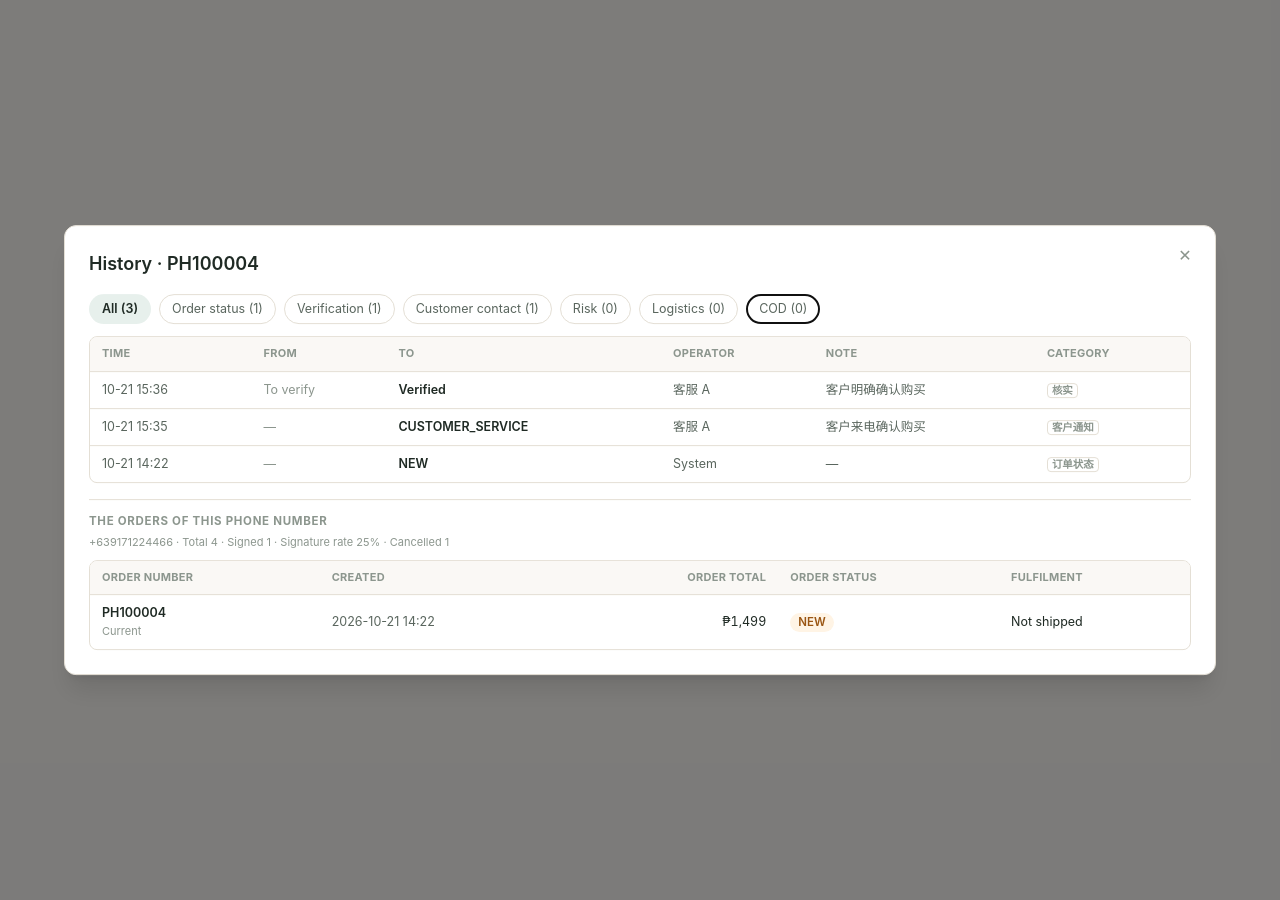
Scenario: the processing history › filters the history by category
expect the heading "History · PH100004" is shown: met, box [89,253,259,274]
Click the button "Logistics (0)" at (689, 309), box [639,294,738,324]
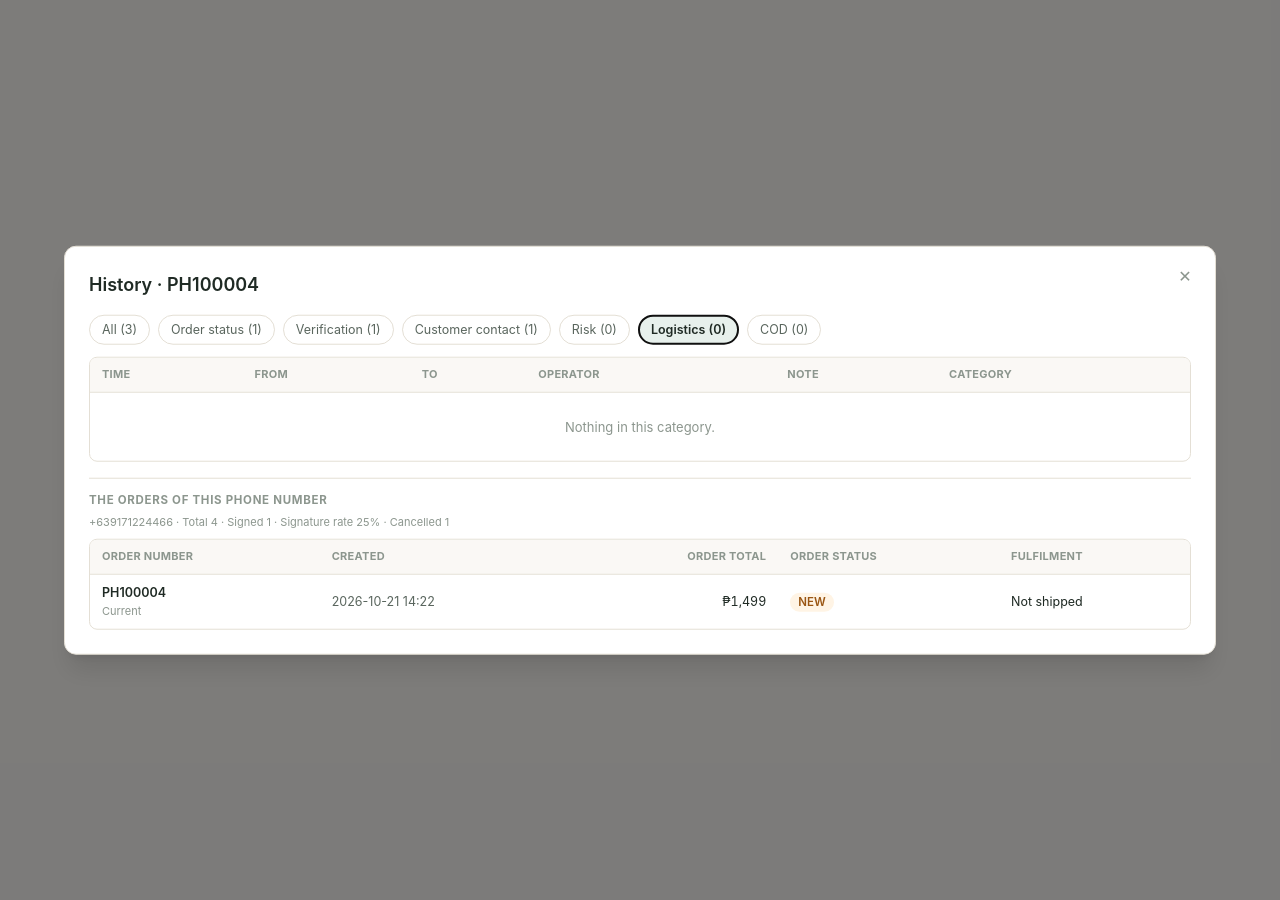
expect the text "客户来电确认购买" is gone: met
